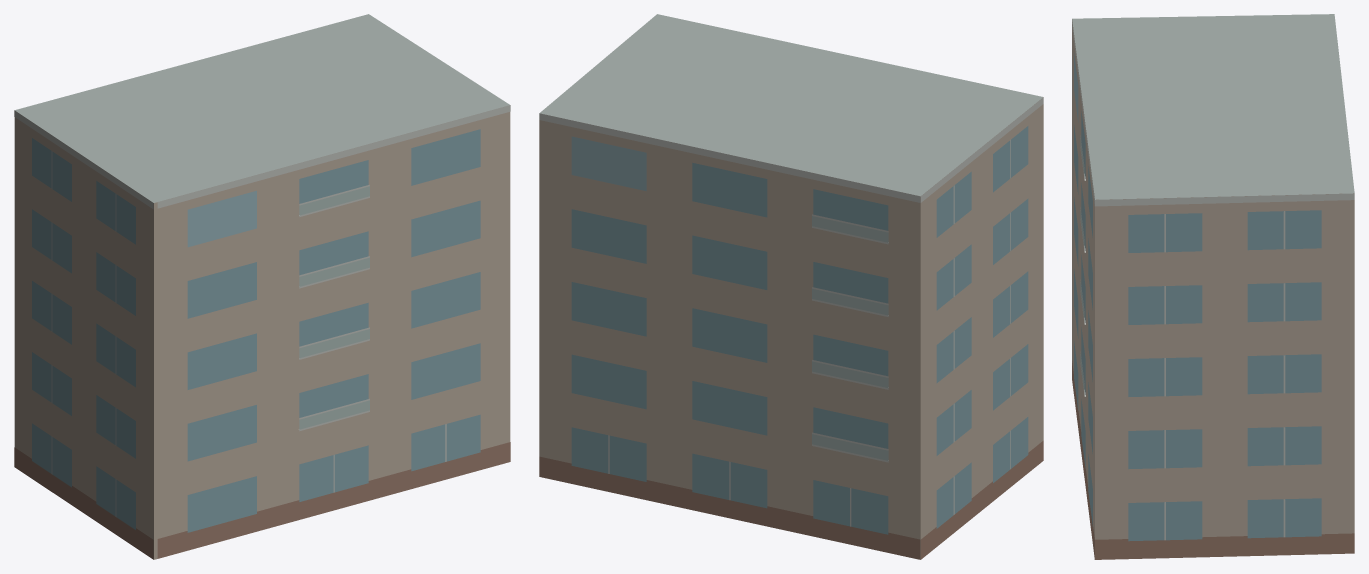
Rendered from survey-upis-32735364.glb.
The picture shows the model from 3 angles, left to right: view 1: azimuth 30°, elevation 25°; view 2: azimuth 150°, elevation 25°; view 3: azimuth 270°, elevation 25°; orthographic projection.
Parts seen in each view (by area): view 1: survey-upis-32735364.tmp; view 2: survey-upis-32735364.tmp; view 3: survey-upis-32735364.tmp.
Part boxes in pixels (left/top/right/bottom): survey-upis-32735364.tmp: left=14, top=14, right=510, bottom=559; survey-upis-32735364.tmp: left=539, top=14, right=1043, bottom=559; survey-upis-32735364.tmp: left=1072, top=14, right=1354, bottom=559.
Size of the model in its own units: 14.62 by 13.2 by 9.4.
